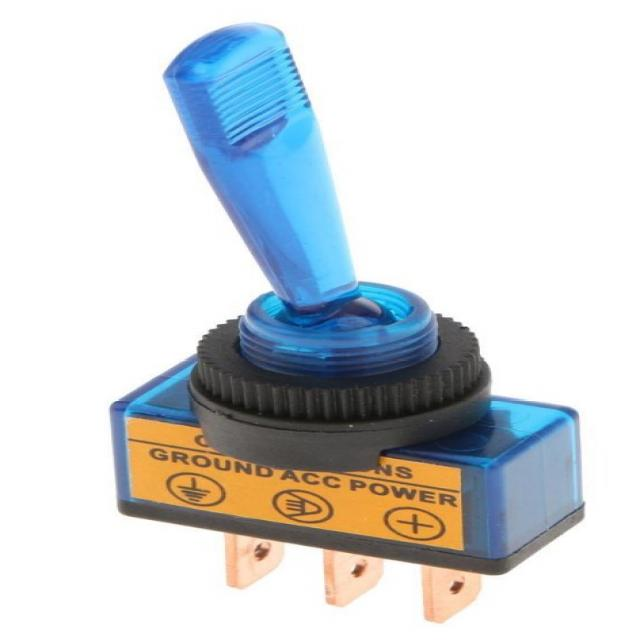toggle switch: (164, 21, 493, 435)
